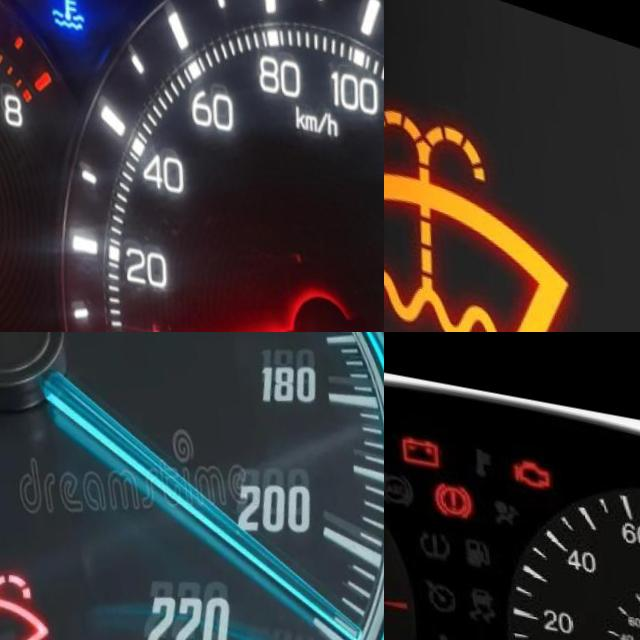High Engine Coolant Temperature: (37, 0, 93, 35)
Washer Fluid: (384, 85, 574, 332), (0, 550, 45, 640)
